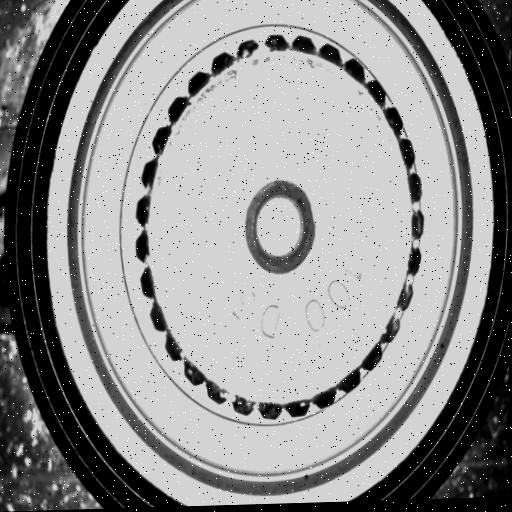gear: (134, 29, 428, 425)
